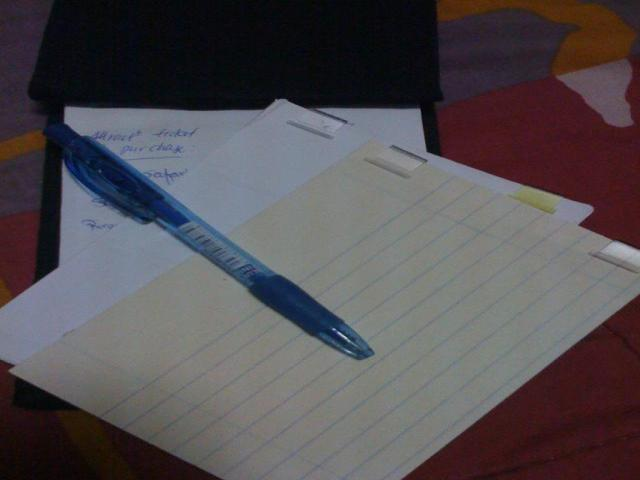PEN: (38, 119, 384, 379)
